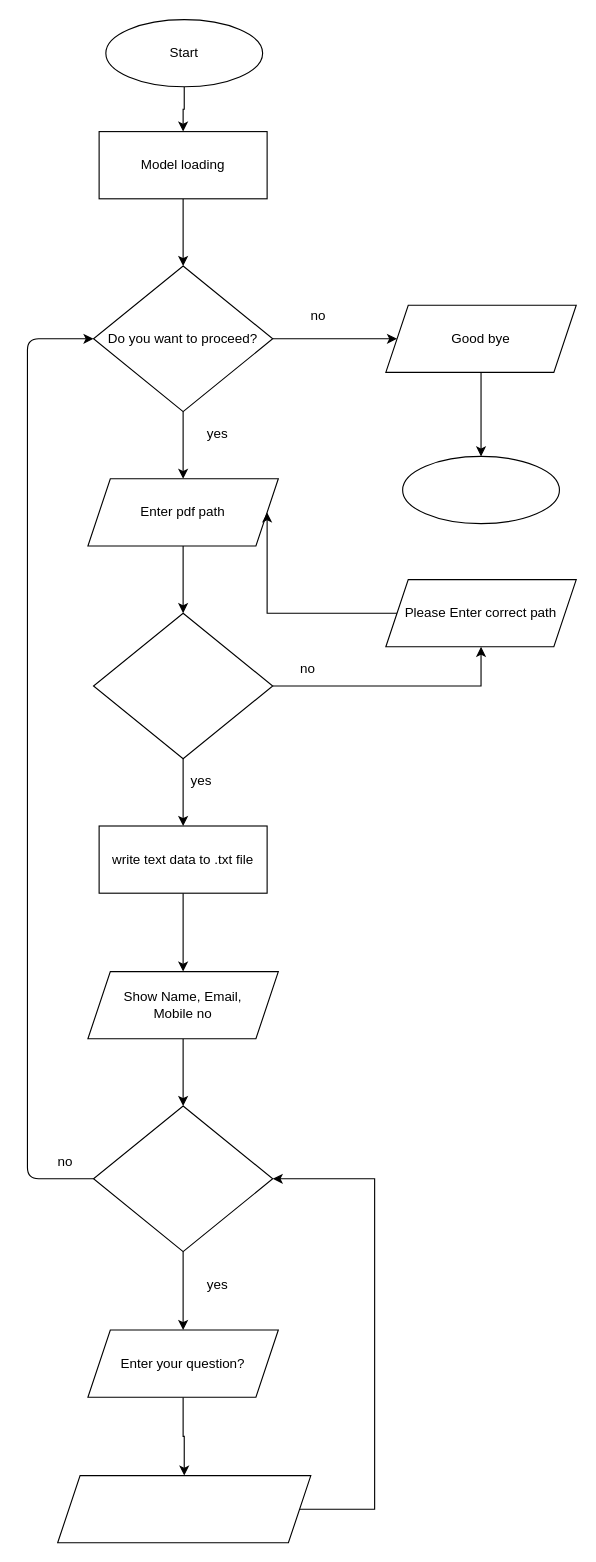
The diagram is 596 pixels wide and 1562 high, and some of its shapes have lost their labels. Here are the shapes that lost their labels. From the top down, the centre of each, then its label:
the point at 480,489: End
the point at 182,685: Is path is correct?
the point at 182,1178: Do you want to ask Questions?
the point at 184,1508: Show answer , if model couldn't find answer show error message
